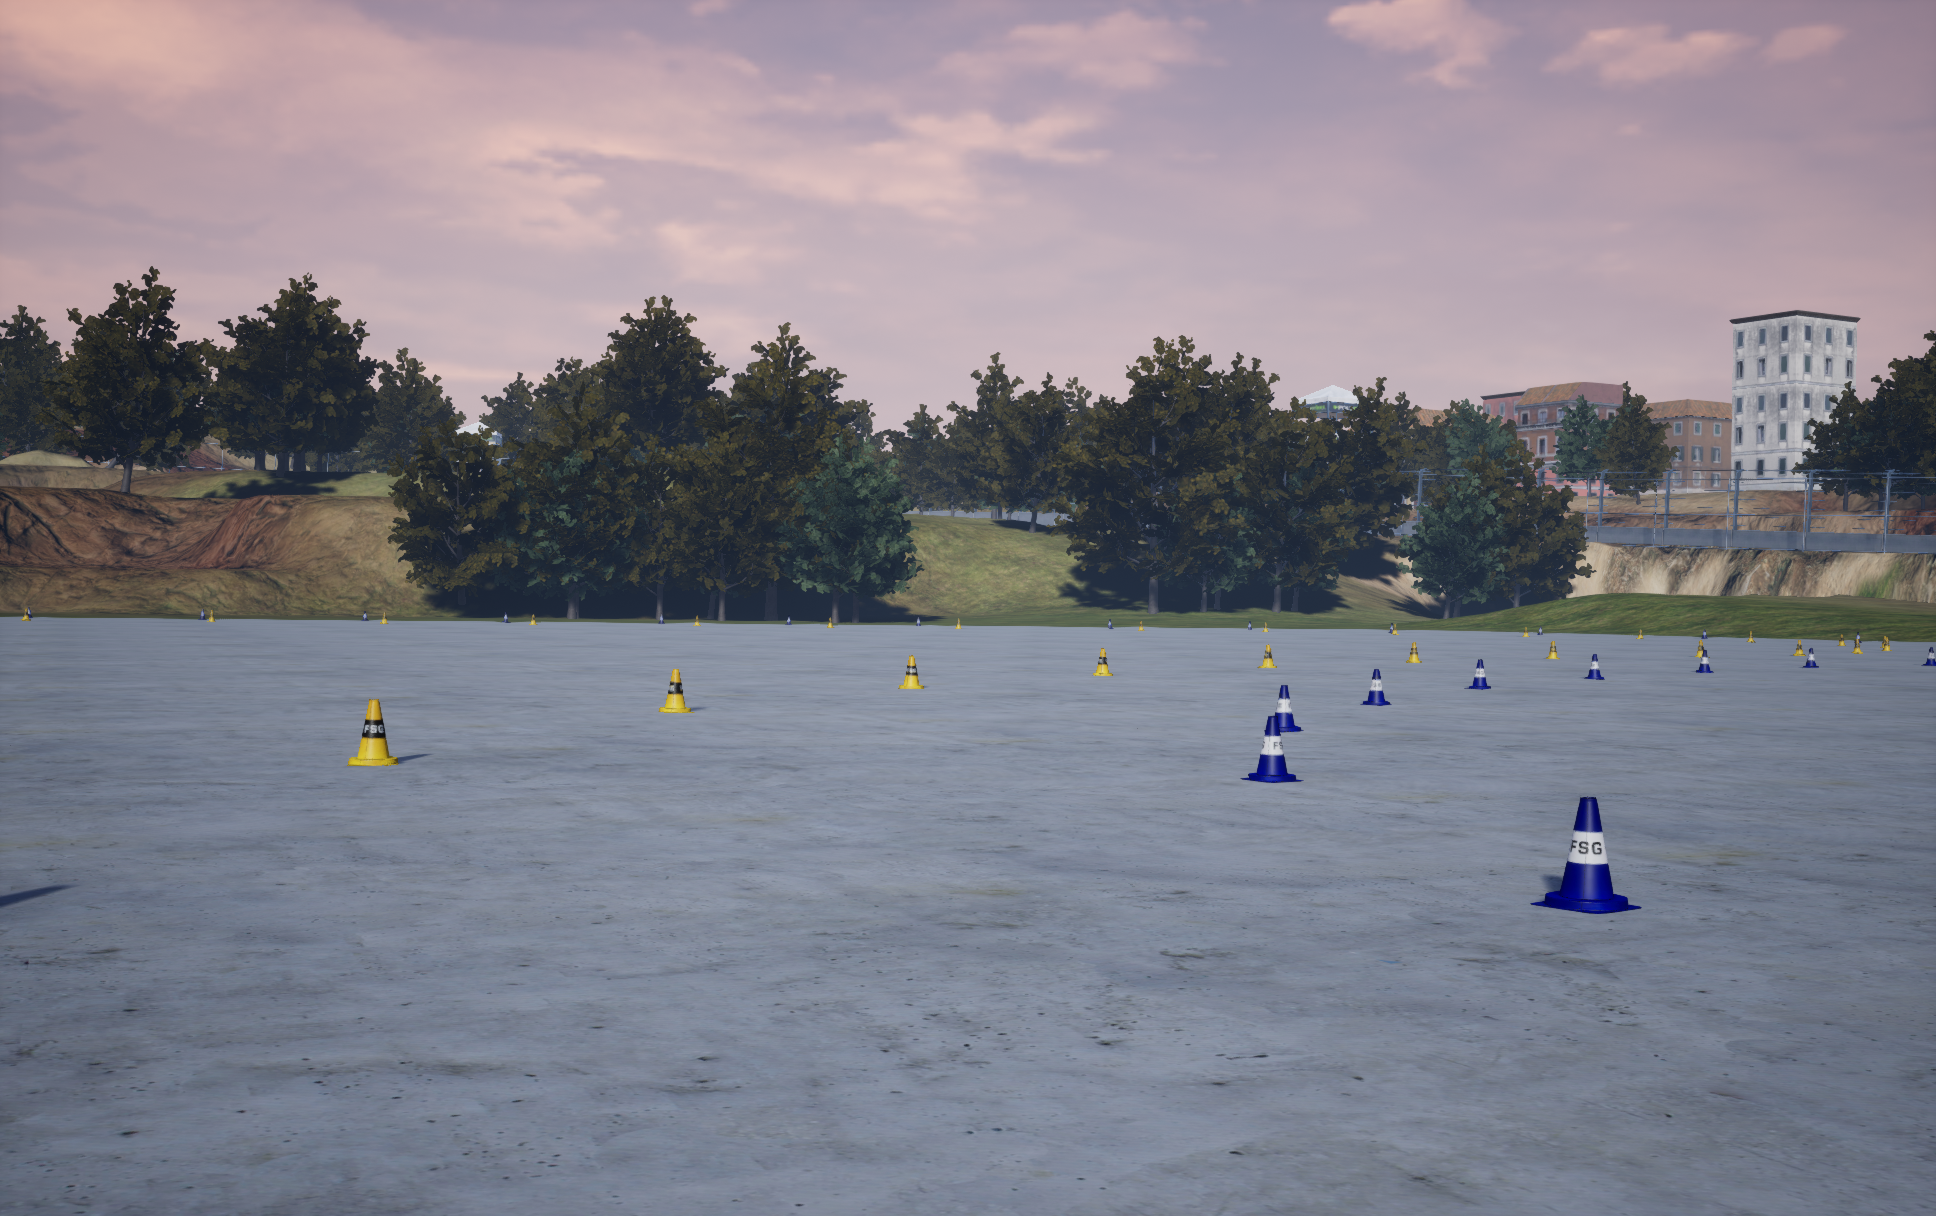blue: (347, 699, 398, 765), (658, 670, 693, 712), (898, 656, 923, 688), (1093, 649, 1112, 675), (1257, 644, 1276, 667), (1406, 642, 1420, 663)
yellow: (1530, 796, 1640, 913), (1240, 716, 1303, 782), (1264, 685, 1303, 731), (1360, 670, 1391, 705), (1464, 658, 1491, 689), (1584, 654, 1604, 679), (1696, 650, 1713, 672), (1803, 649, 1818, 667)
